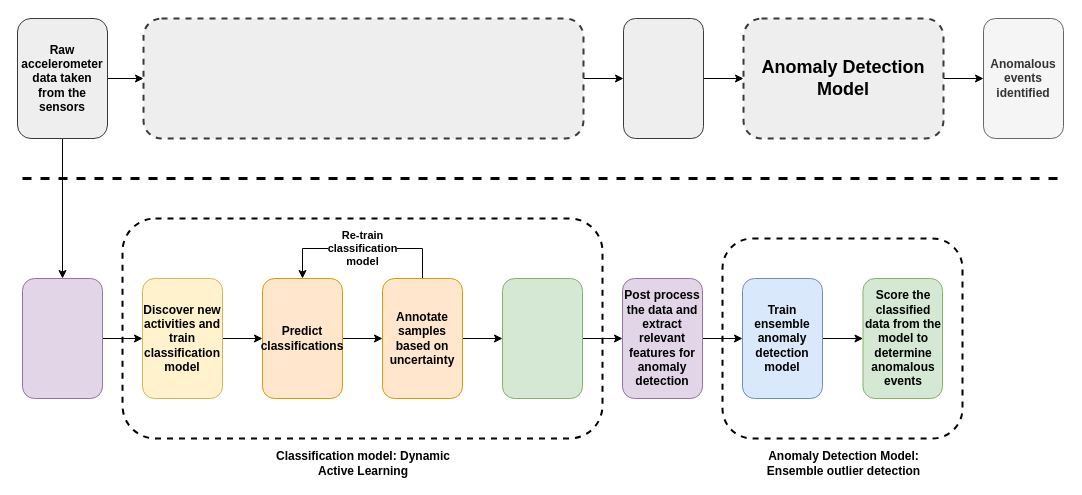
Some shapes in this 1082 by 495 pixel diagram are drawn without their labels. Here are the shapes that lost their labels. From the top down, the box of each, then its label:
(142, 17, 584, 139): Classification Model
(622, 18, 704, 138): Activity groupings, e.g sitting, walking, sleeping
(22, 278, 102, 398): Data pre-processing and feature extraction
(502, 278, 582, 398): Classify all remaining data into specific activites
